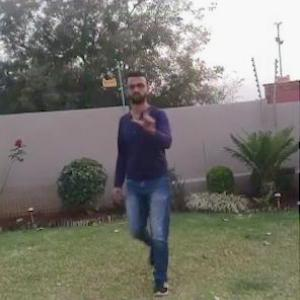land_hand: (131, 98, 160, 136)
